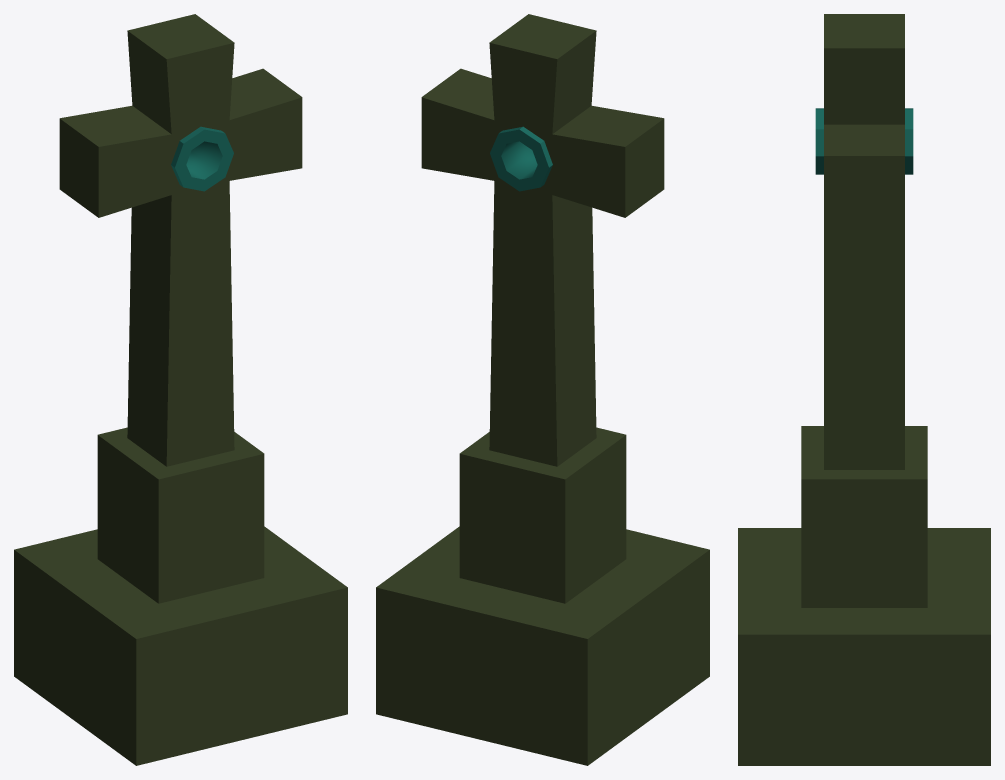
File: Cross.fbx
3 views of the same model, side by side, from view 1: azimuth 30°, elevation 25°; view 2: azimuth 150°, elevation 25°; view 3: azimuth 270°, elevation 25° (orthographic). The views are drawn at different scales.
Parts seen in each view (by area): view 1: Cross; view 2: Cross; view 3: Cross.
Boxes of the visible parts, left/top/right/bottom form: Cross: left=14, top=14, right=347, bottom=765; Cross: left=376, top=14, right=709, bottom=765; Cross: left=738, top=14, right=990, bottom=765.
Size of the model in its own units: 1.35 by 4 by 1.35.
